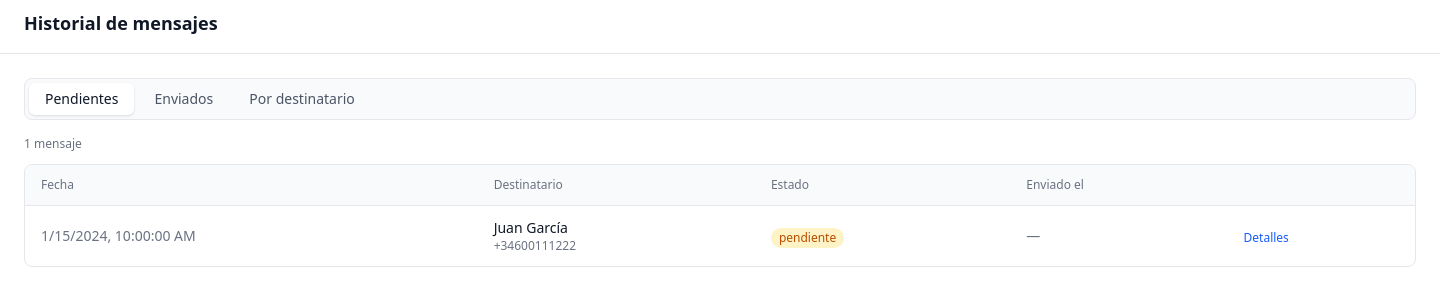
Test case: OutboxPage › shows status filter when switching to the Por destinatario tab
The image size is (1440, 284).
Click the button "Por destinatario": (302, 99) 233,83 -> 371,115
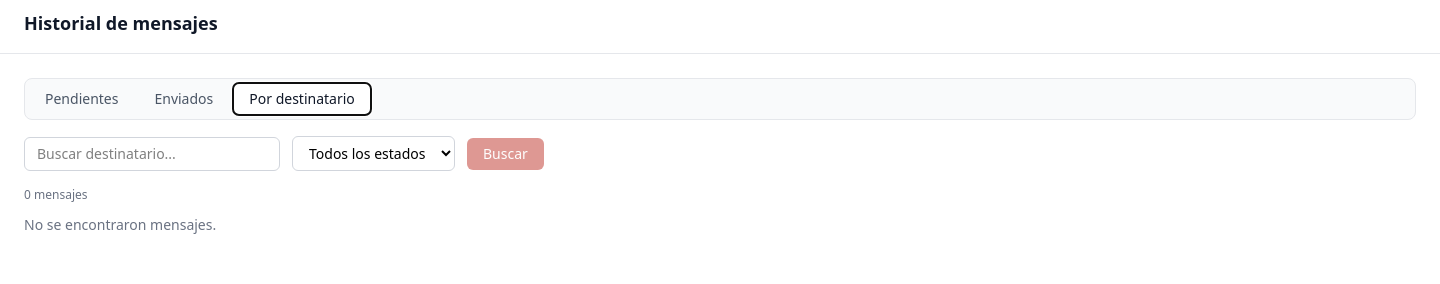
Result: the field with placeholder "Buscar destinatario..." is shown at 24,136 -> 280,170
